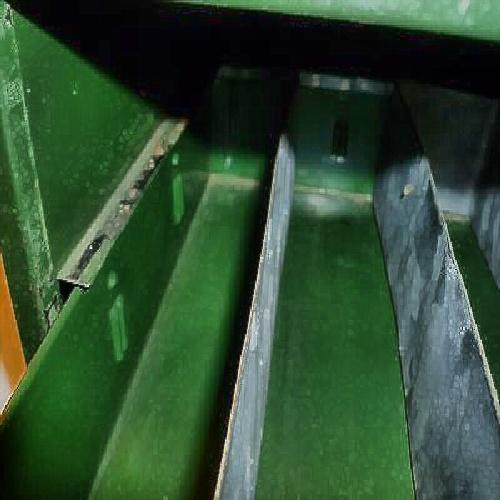cabinet: (39, 22, 480, 473)
